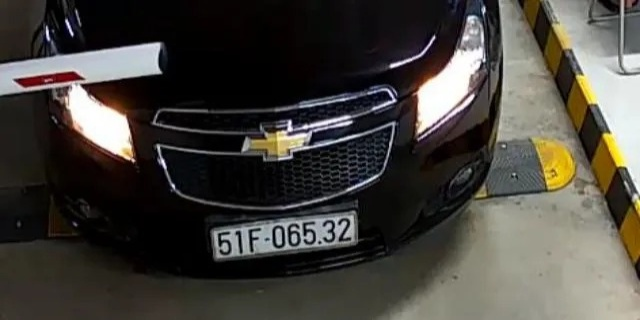bien_so: (210, 216, 356, 256)
